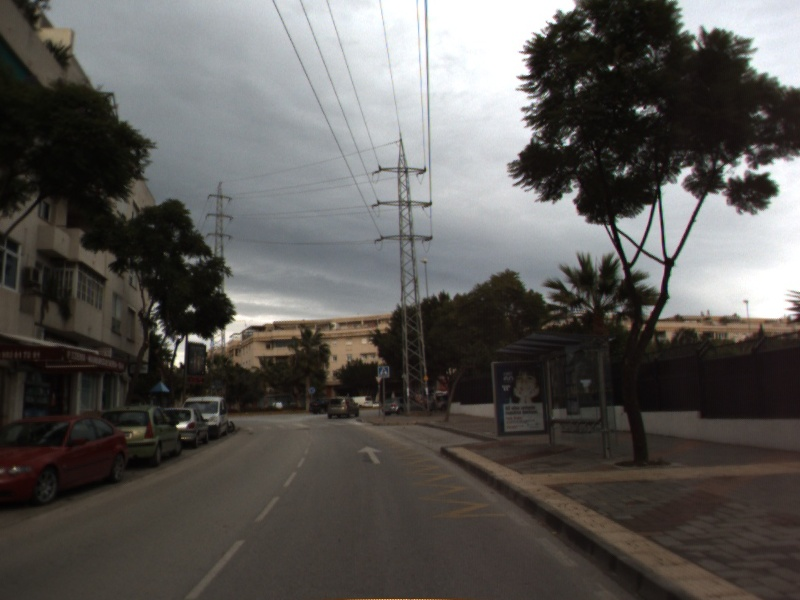STRAIGHT: (355, 444, 384, 466)
